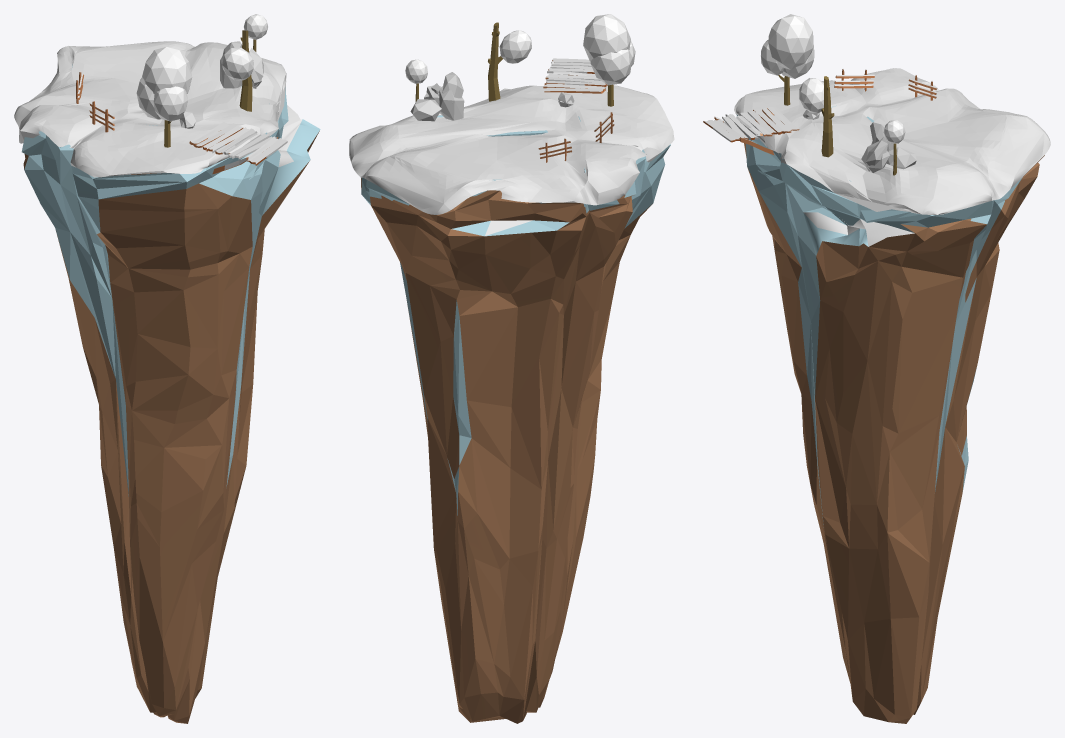
File: rock9.fbx
3 renders of one model, left to right at view 1: azimuth 30°, elevation 25°; view 2: azimuth 150°, elevation 25°; view 3: azimuth 270°, elevation 25°, orthographic. The views are drawn at different scales.
Parts seen in each view (by area): view 1: rock2.001, Cylinder.013, rock1.002, Cylinder.016, Cylinder.014, rock1.001; view 2: rock2.001, Cylinder.013, rock1.002, Cylinder.016, Icosphere.062, rock1.001, Icosphere.061; view 3: rock2.001, Cylinder.013, rock1.002, Cylinder.016, rock1.001, Icosphere.064.
Part boxes in pixels (box(x1,y1,x2,y2)): rock2.001: box(14, 41, 320, 723); Cylinder.013: box(136, 47, 192, 147); rock1.002: box(189, 122, 287, 174); Cylinder.016: box(222, 30, 253, 111); Cylinder.014: box(244, 14, 267, 51); rock1.001: box(76, 72, 114, 132); rock2.001: box(349, 85, 674, 723); Cylinder.013: box(583, 14, 635, 106); rock1.002: box(543, 58, 607, 93); Cylinder.016: box(488, 22, 531, 101); Icosphere.062: box(439, 72, 464, 120); rock1.001: box(538, 111, 614, 162); Icosphere.061: box(410, 99, 441, 121); rock2.001: box(734, 68, 1050, 723); Cylinder.013: box(761, 14, 814, 105); rock1.002: box(703, 106, 799, 155); Cylinder.016: box(799, 76, 834, 157); rock1.001: box(834, 68, 937, 100); Icosphere.064: box(861, 136, 890, 172).
Size of the model in its own units: 334 by 812 by 379.
